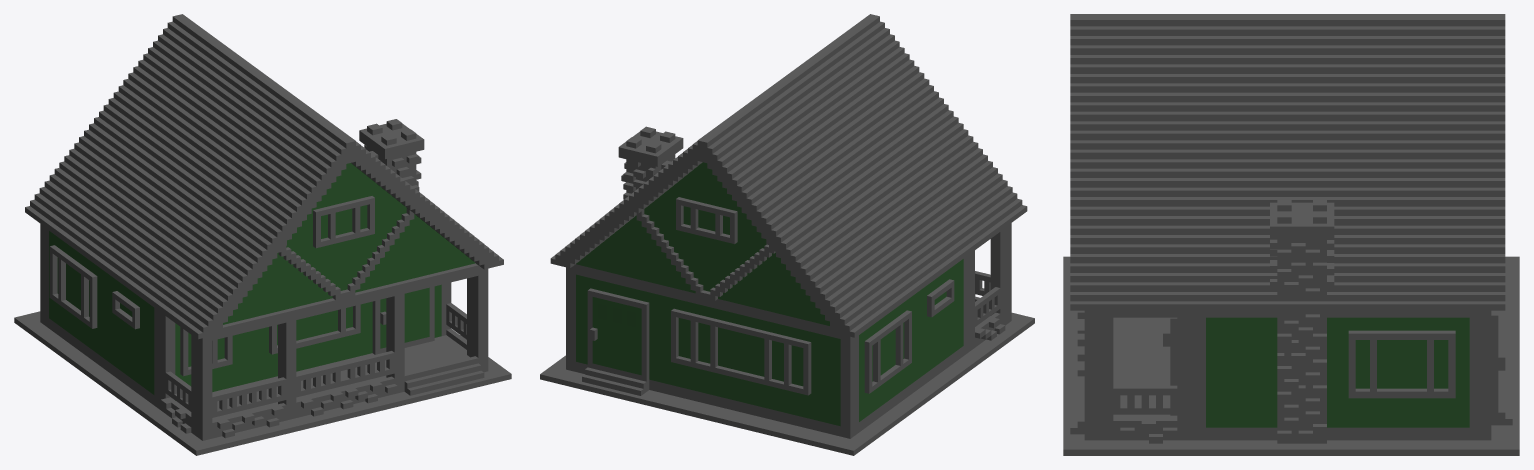
The model's file is bld_house3b.obj.
The picture shows the model from 3 angles, left to right: view 1: azimuth 30°, elevation 25°; view 2: azimuth 150°, elevation 25°; view 3: azimuth 270°, elevation 25°; orthographic projection. The views are drawn at different scales.
Size of the model in its own units: 64 by 53 by 64.
